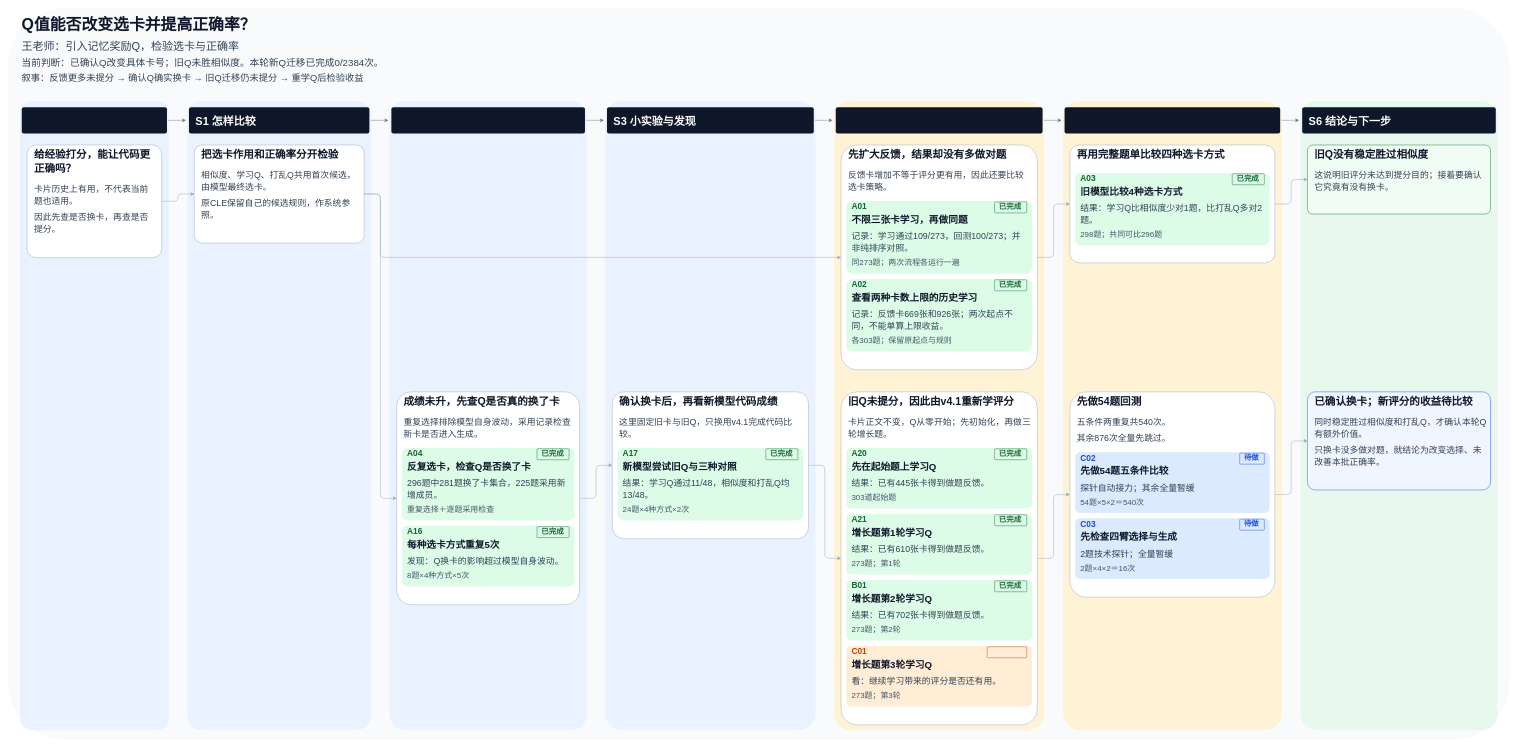
Some shapes in this 1517 by 747 pixel diagram are drawn without their labels. The centre of each missing label's shape, as x and y in pixels:
"S0 为什么做" goes at [94,120].
"S2 先验证哪一步" goes at [488,120].
"S4 继续学习或建方法" goes at [939,120].
"S5 完成主要比较" goes at [1172,120].
"正在运行" goes at [1007,652].
